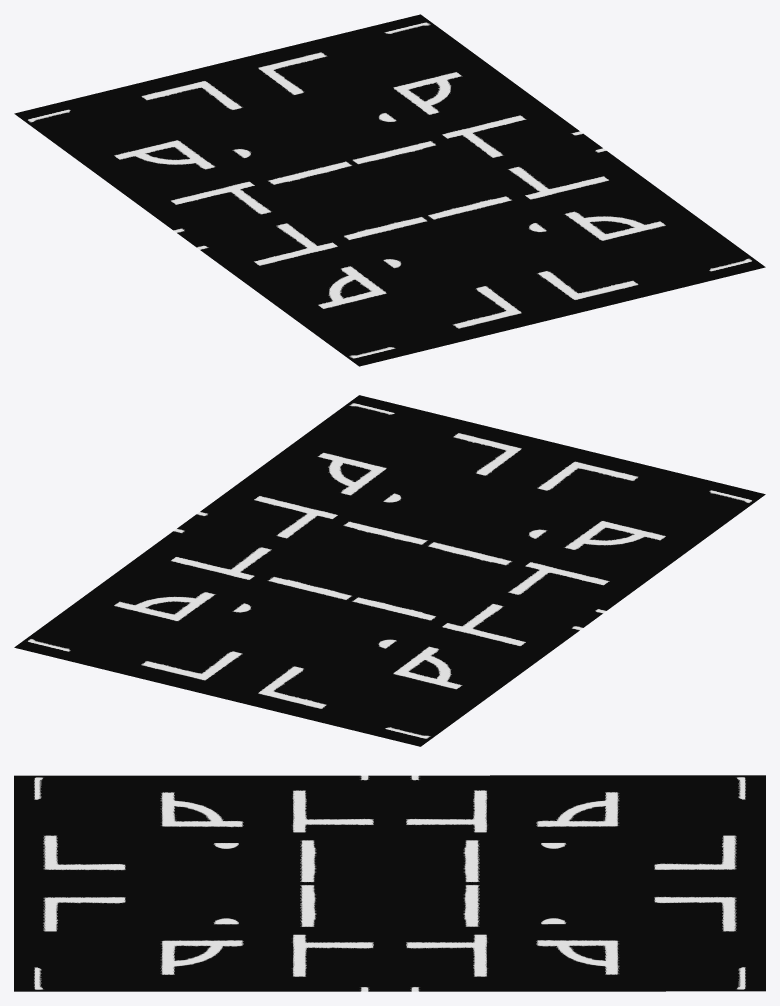
Rendered from FootballField.fbx.
3 views of the same model, one above another, from view 1: azimuth 30°, elevation 25°; view 2: azimuth 150°, elevation 25°; view 3: azimuth 270°, elevation 25° (orthographic). The views are drawn at different scales.
Parts seen in each view (by area): view 1: _11vs11.003; view 2: _11vs11.003; view 3: _11vs11.003.
Boxes of the visible parts, x1=… form: _11vs11.003: x1=14, y1=14, x2=765, y2=366; _11vs11.003: x1=14, y1=395, x2=765, y2=746; _11vs11.003: x1=14, y1=775, x2=765, y2=991.
Bounding box in the file's own units: 6813 × 3.46 × 10019.
